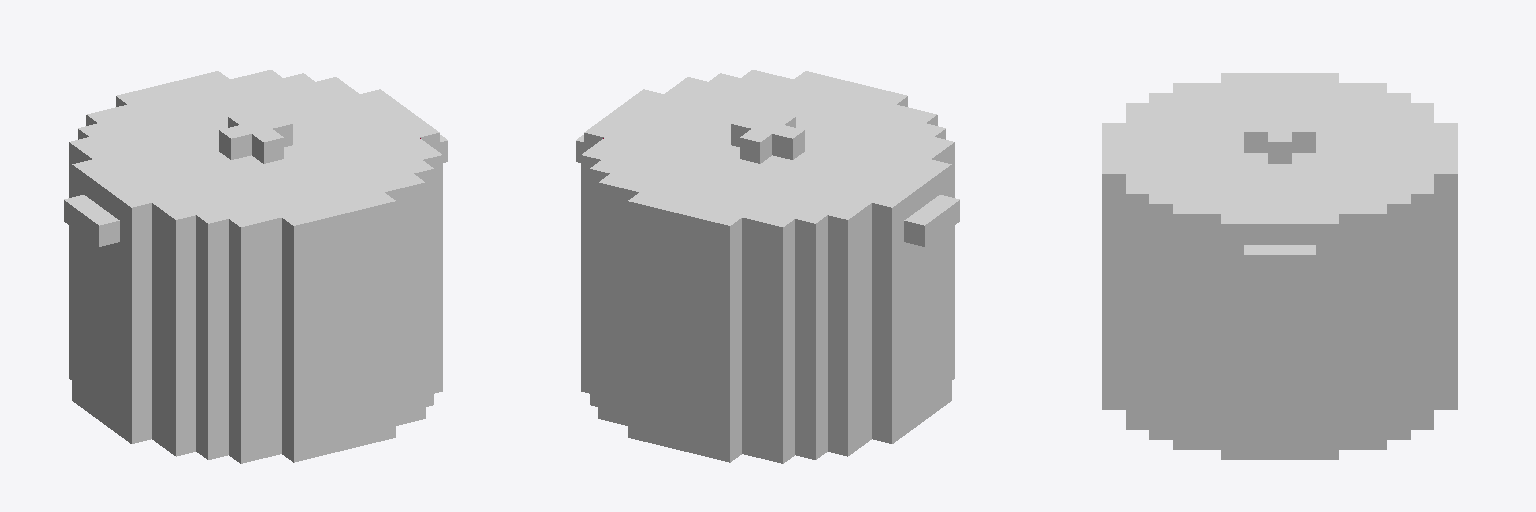
3 renders of one model, left to right at view 1: azimuth 30°, elevation 25°; view 2: azimuth 150°, elevation 25°; view 3: azimuth 270°, elevation 25°, orthographic.
Parts seen in each view (by area): view 1: pot; view 2: pot; view 3: pot.
Part boxes in pixels (x1,y1,x2,y2): pot: (64, 70, 447, 463); pot: (576, 70, 959, 463); pot: (1102, 73, 1457, 459).
Bounding box in the file's own units: 1.7 × 1.2 × 1.5.
Materials: 1 (1 with a texture image).